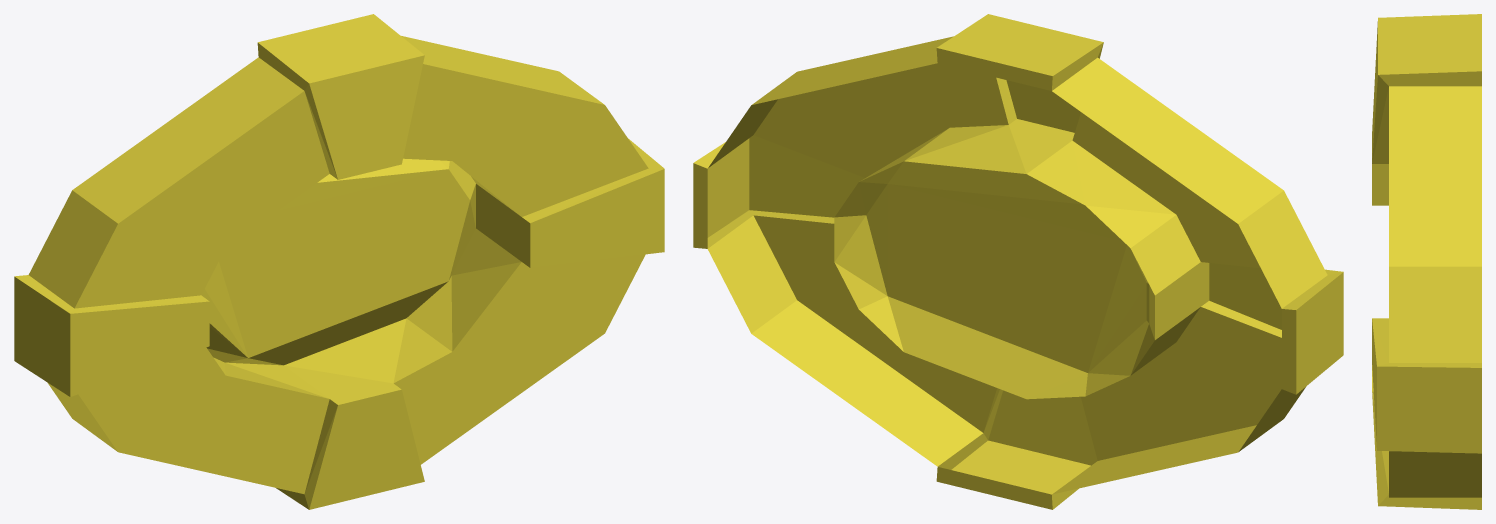
The model's file is JanelaOvalLateral.Low.fbx.
3 views of the same model, side by side, from view 1: azimuth 30°, elevation 25°; view 2: azimuth 150°, elevation 25°; view 3: azimuth 270°, elevation 25° (orthographic).
Visible parts, largest first — view 1: JanelaOvalLateral.Low; view 2: JanelaOvalLateral.Low; view 3: JanelaOvalLateral.Low.
Boxes of the visible parts, box(x1,y1,x2,y2) form: JanelaOvalLateral.Low: box(14, 14, 664, 509); JanelaOvalLateral.Low: box(693, 14, 1343, 509); JanelaOvalLateral.Low: box(1372, 14, 1481, 509).
Bounding box in the file's own units: 93.3 × 64.14 × 14.55.
